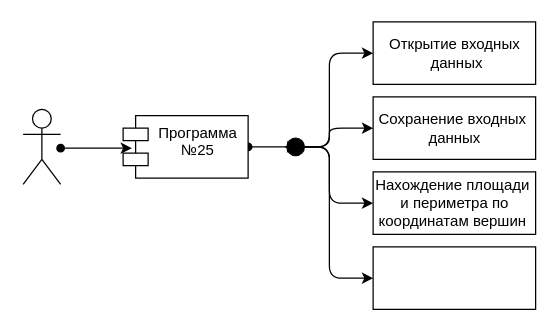
This 559x331 diagram has some shape labels left out. The shapes that lost their labels are listed below. From the top down, each one's centre as x and y in pixels, then its label:
At (41,146): "USER".
At (454,277): "Сохранение результата в файл".
